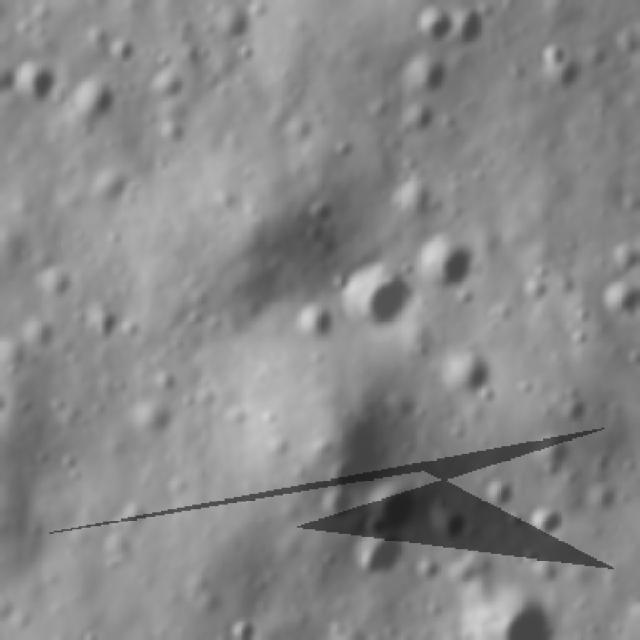crater: (342, 253, 413, 341), (411, 231, 480, 292), (348, 534, 414, 595), (67, 74, 124, 132), (384, 52, 447, 103), (372, 478, 430, 528), (529, 428, 573, 484), (288, 302, 339, 344), (449, 352, 491, 402), (4, 57, 54, 98), (527, 502, 575, 541), (414, 7, 454, 47), (82, 309, 122, 348), (604, 281, 639, 325), (480, 477, 517, 514), (611, 239, 637, 281)
